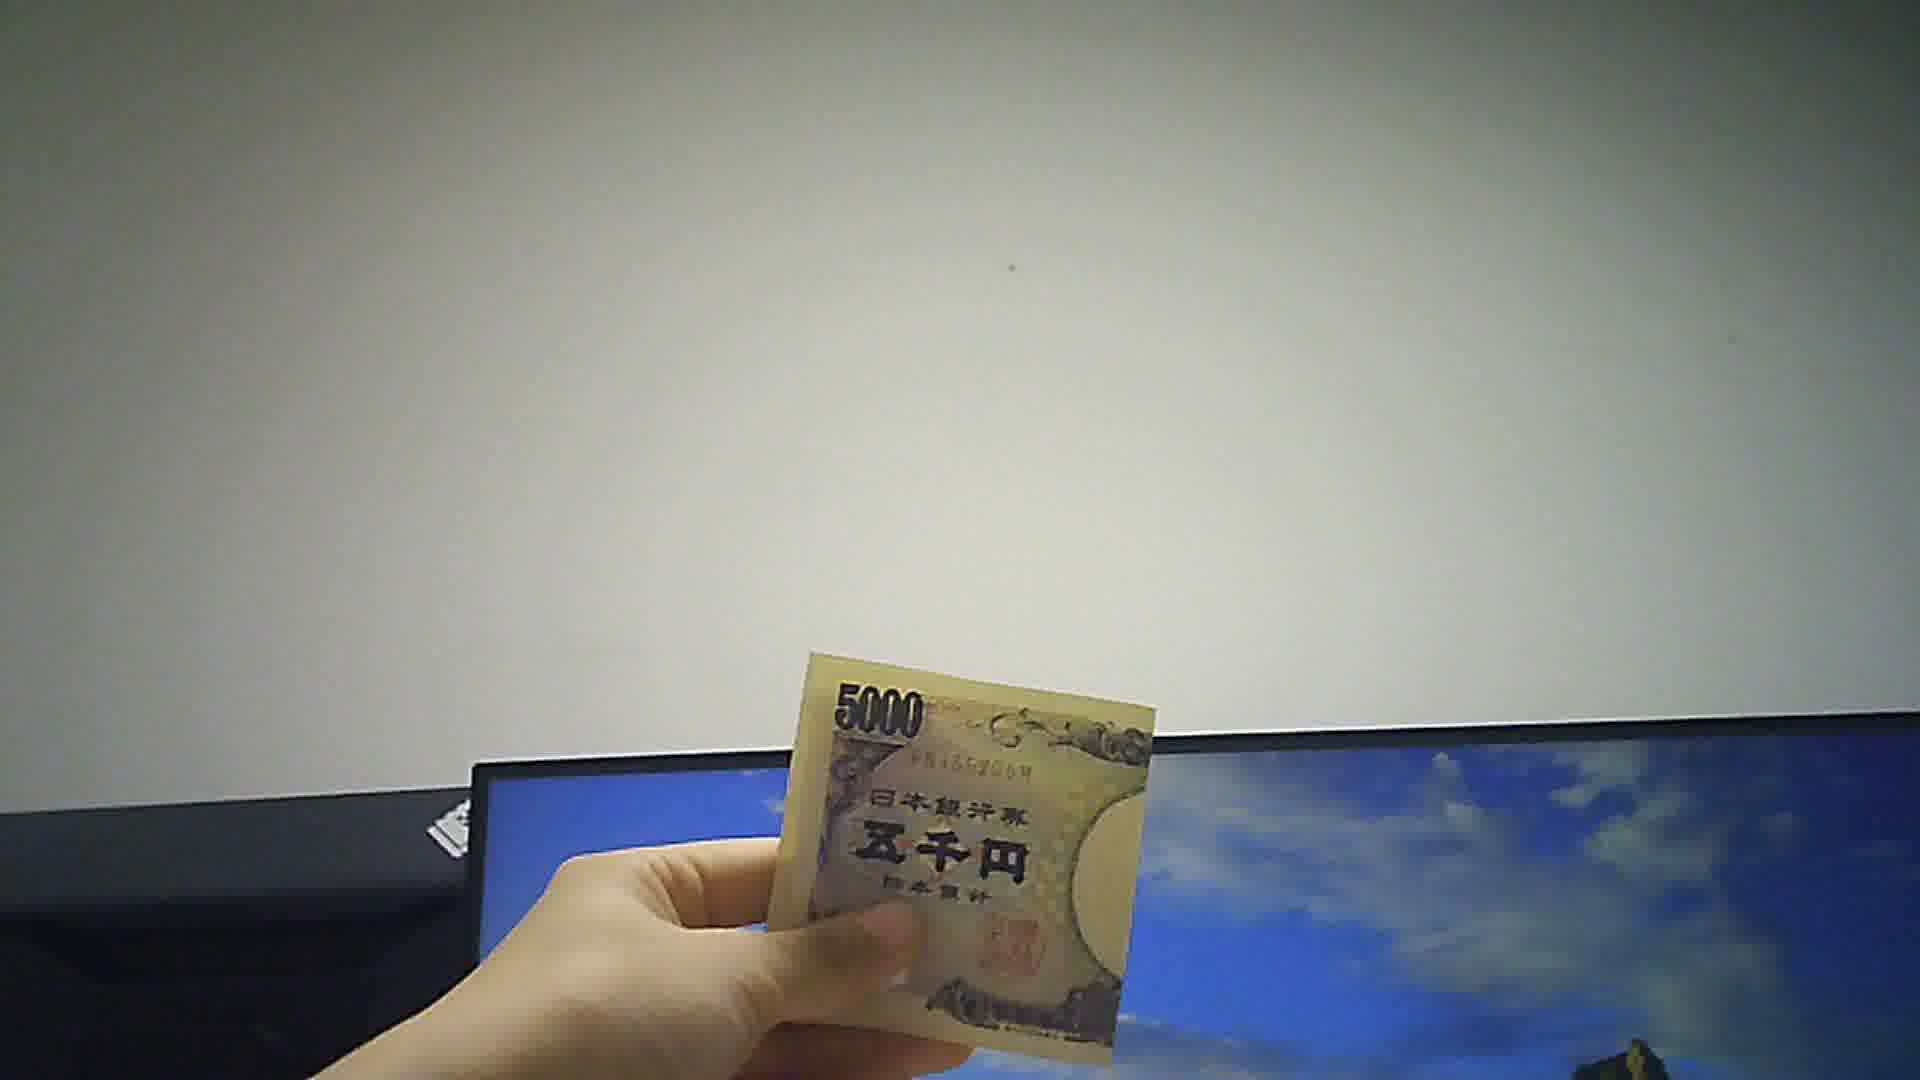5,000 Yen: (746, 640, 1137, 1064)
